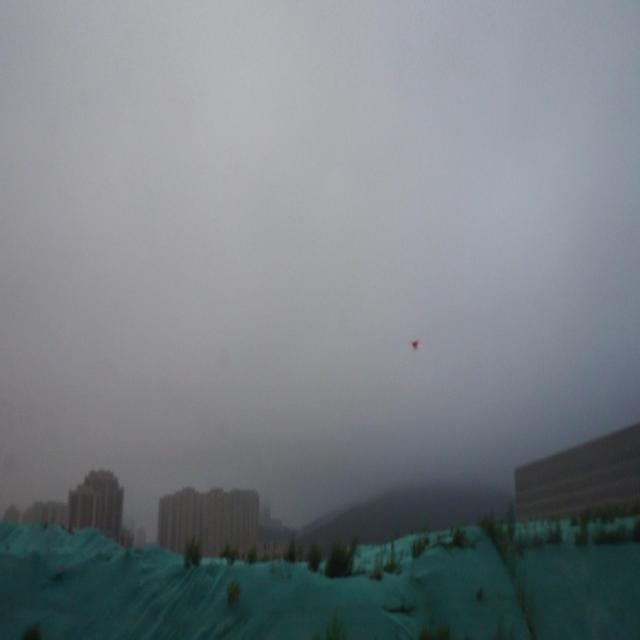drone: (408, 332, 422, 356)
